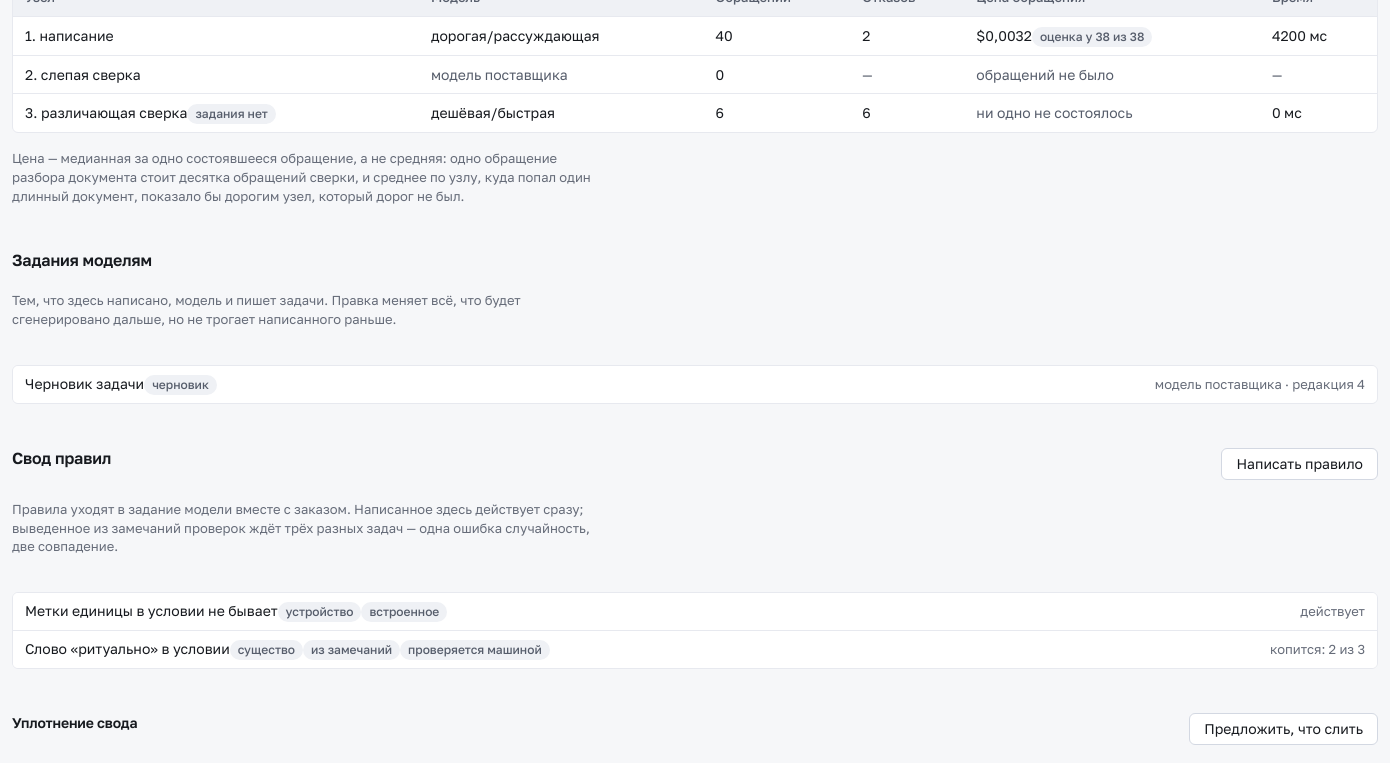
Scenario: мастерская › сохранение задания шлёт нынешнюю редакцию
This screenshot has width=1390, height=763.
Later steps or results of the test are not shown.
(page scrolled)
What coordinates should you click on to do the following:
click the text "Черновик задачи"
I would click on:
 (121, 384)
Its box is left=25, top=374, right=217, bottom=395.
(page scrolled)
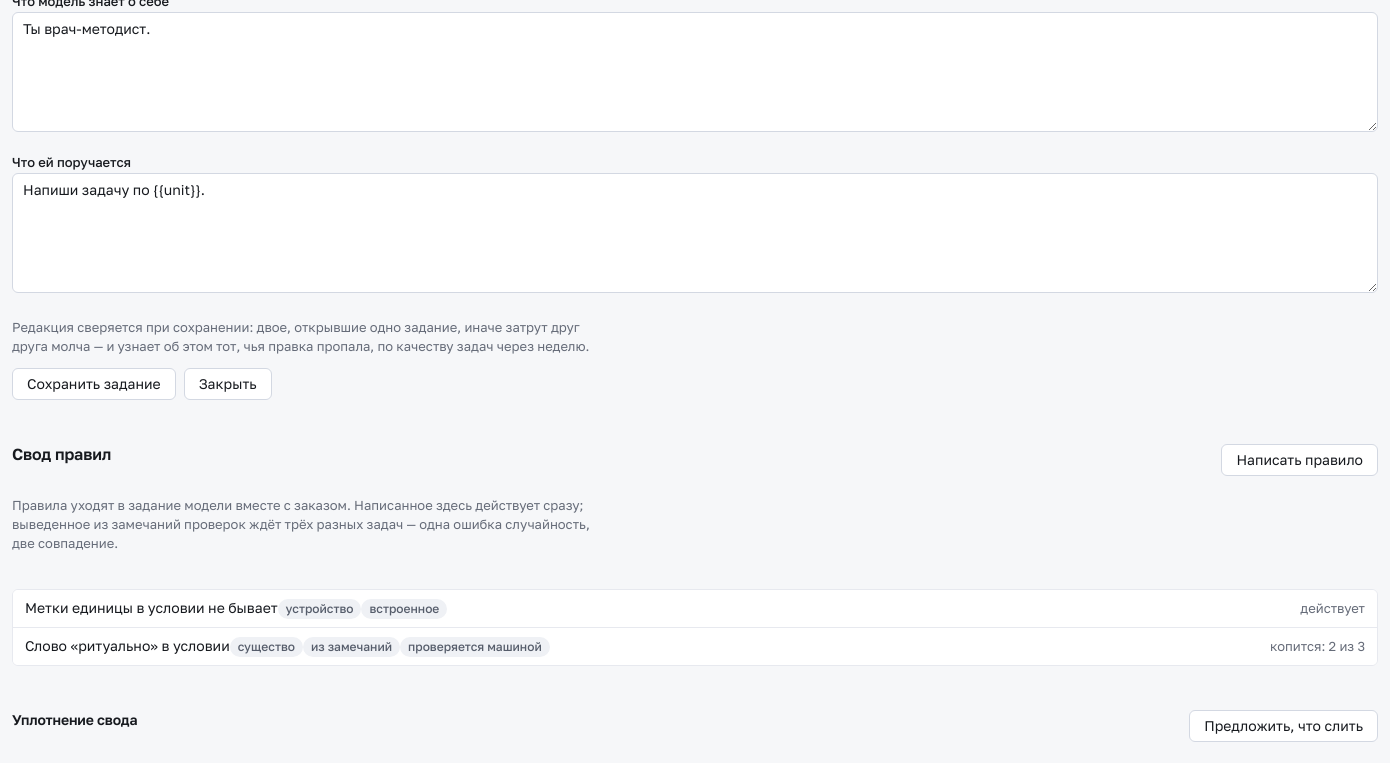
Expected: the text box showing "Ты врач-методист." is shown, left=12, top=12, right=1378, bottom=132
